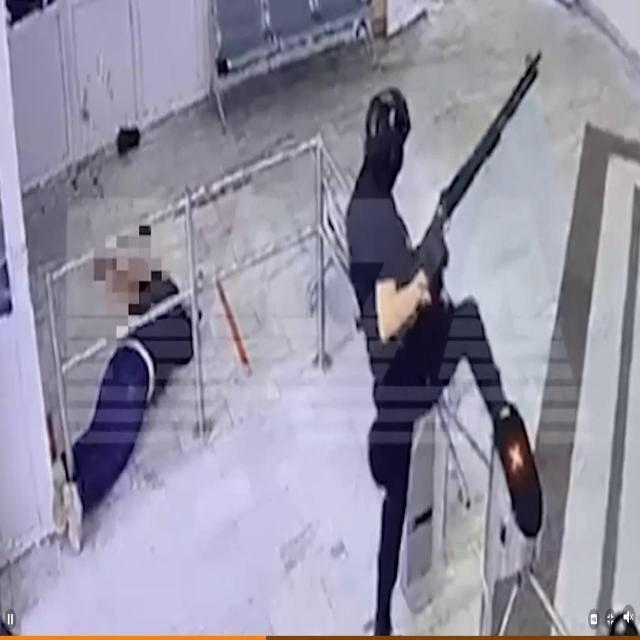pistol: (400, 31, 550, 312)
